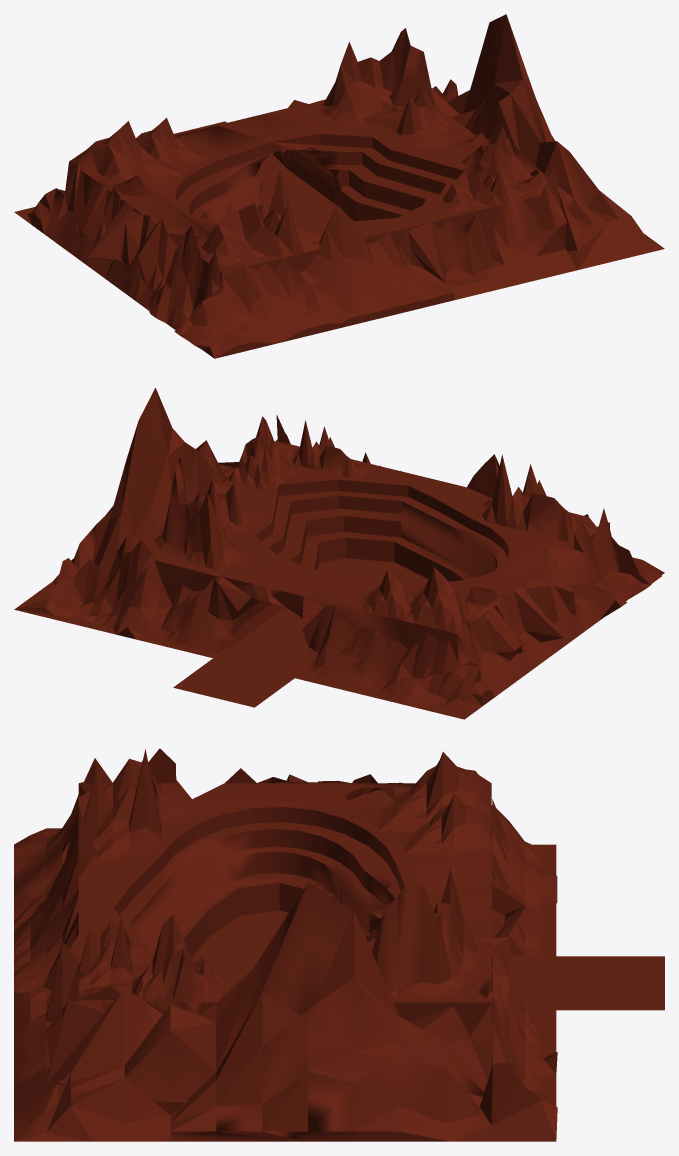
The model's file is mina.obj.
The picture shows the model from 3 angles, top to bottom: view 1: azimuth 30°, elevation 25°; view 2: azimuth 150°, elevation 25°; view 3: azimuth 270°, elevation 25°; orthographic projection. The views are drawn at different scales.
Visible parts, largest first — view 1: Mesh01; view 2: Mesh01; view 3: Mesh01.
Part boxes in pixels (left/top/right/bottom): Mesh01: left=14, top=14, right=664, bottom=358; Mesh01: left=14, top=388, right=664, bottom=719; Mesh01: left=14, top=748, right=664, bottom=1141.
Size of the model in its own units: 5272 by 1826 by 4745.
